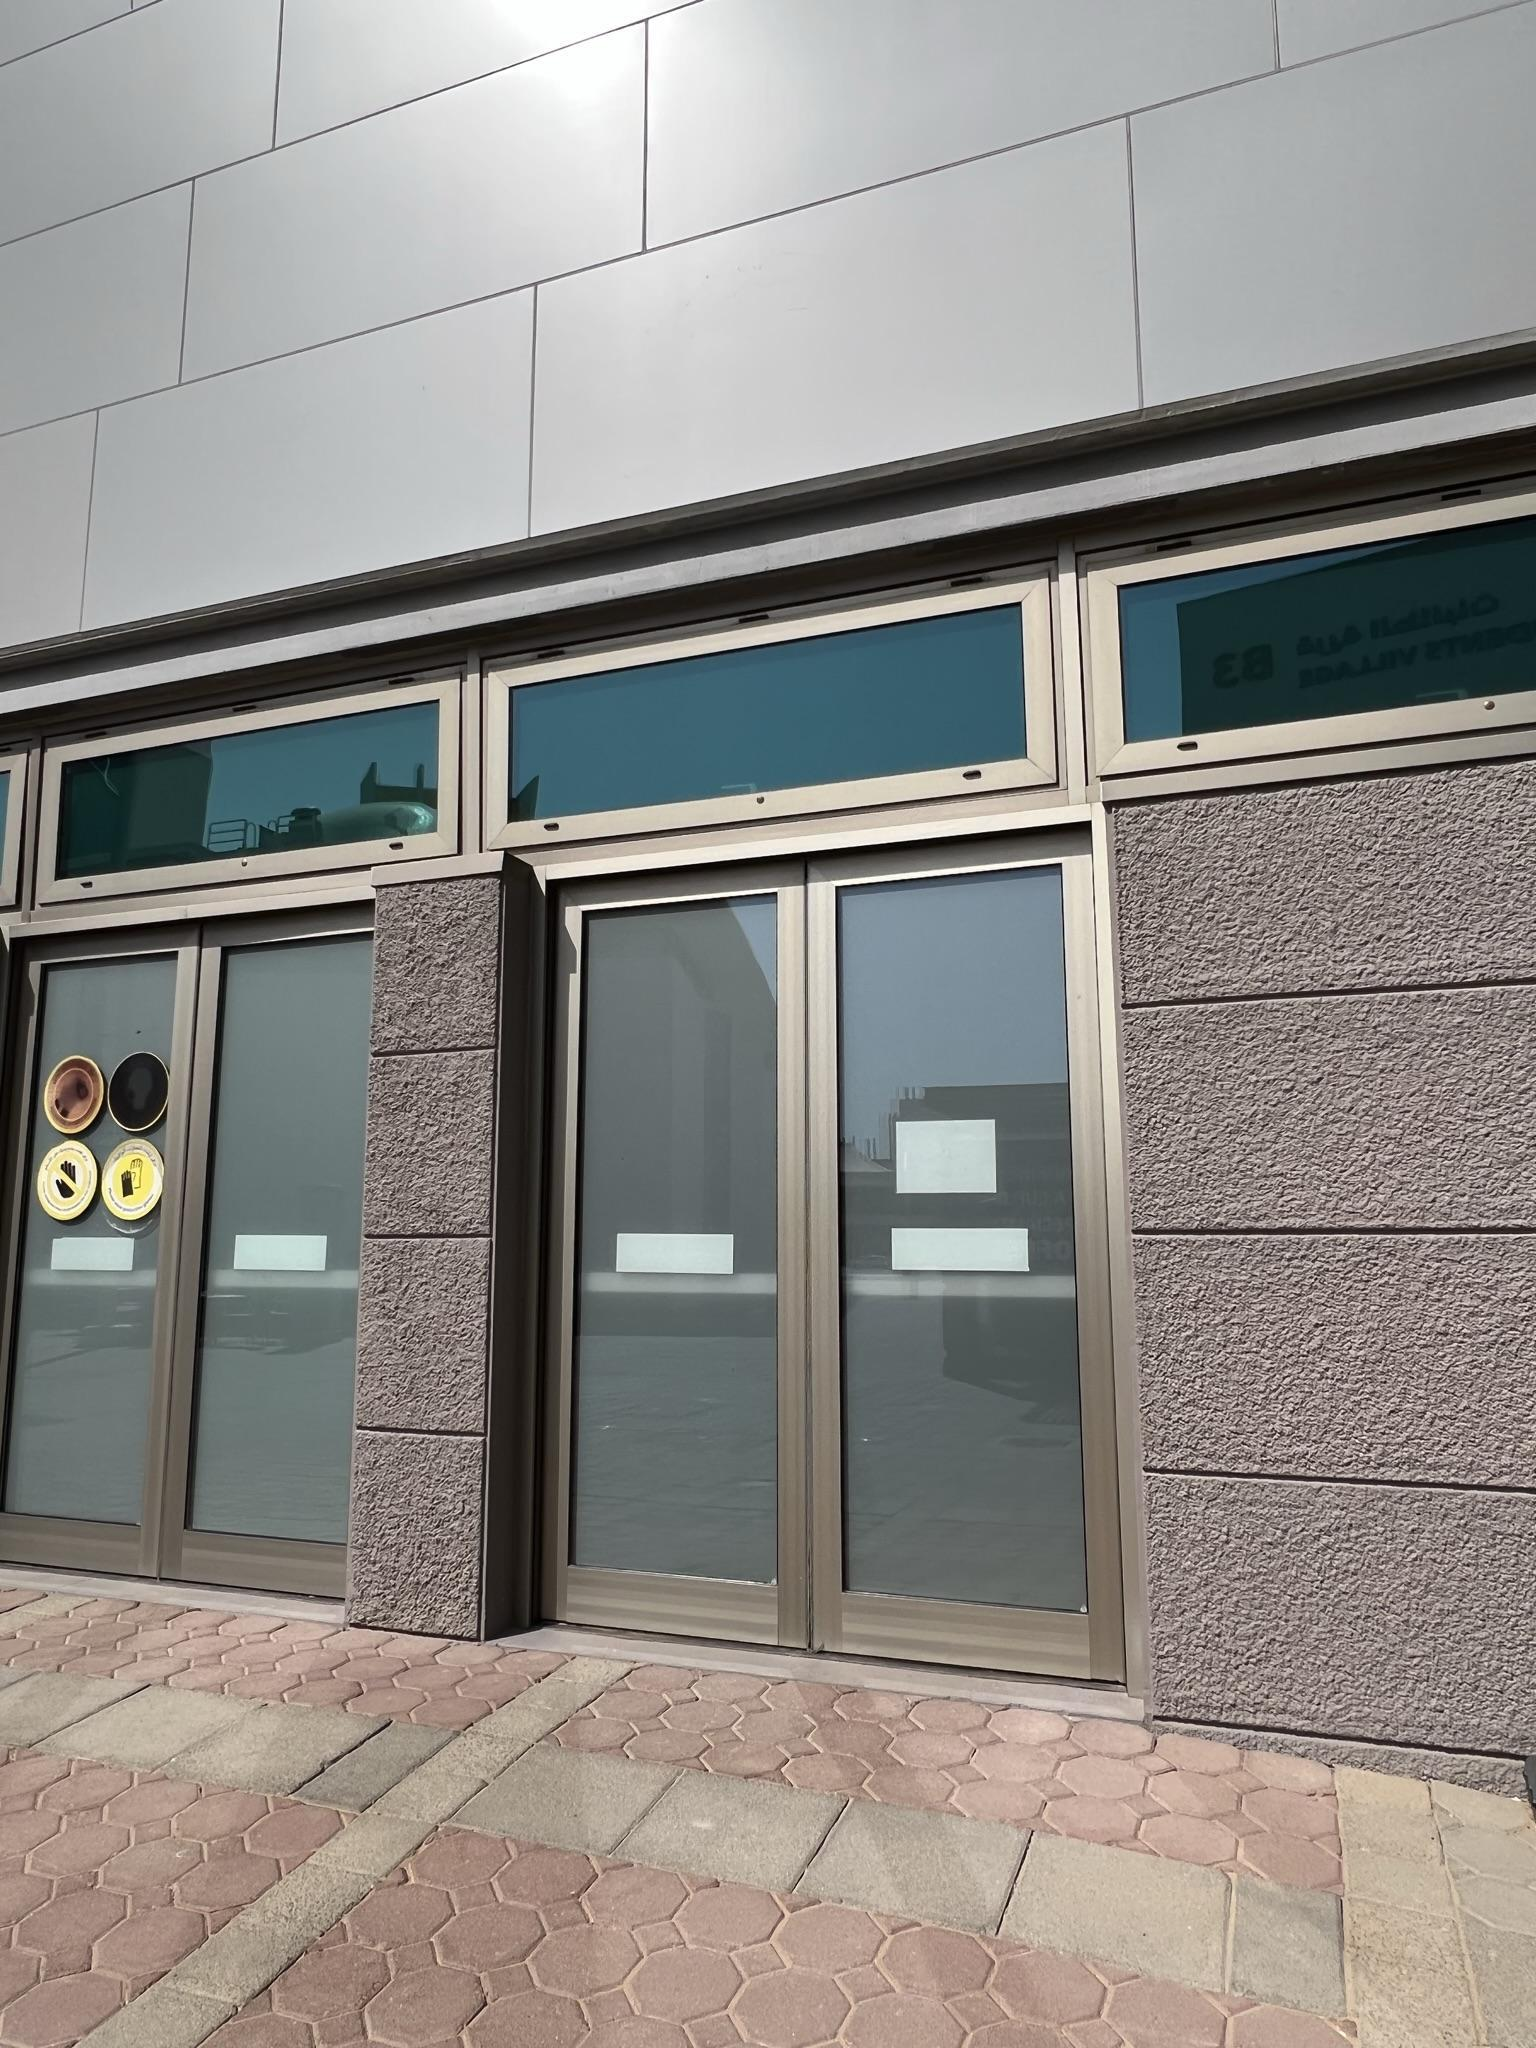door: (842, 847, 1125, 1682), (566, 876, 821, 1646), (207, 921, 357, 1566), (42, 942, 173, 1558)
